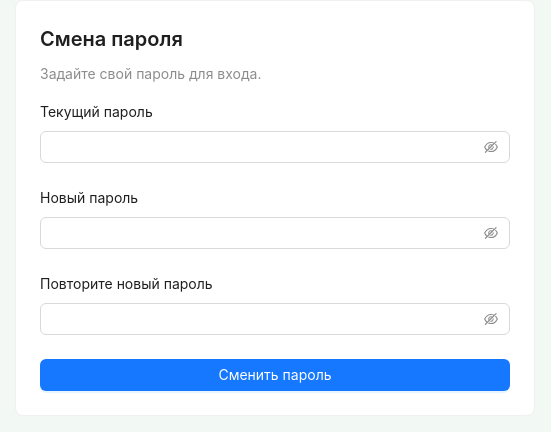
Test: ChangePassword — смена пароля › пустая отправка показывает ошибки обязательных полей и не делает запрос
The width and height of the screenshot is (551, 432).
Click the button "Сменить пароль". click: click(275, 375)
box: [40,359,510,391]
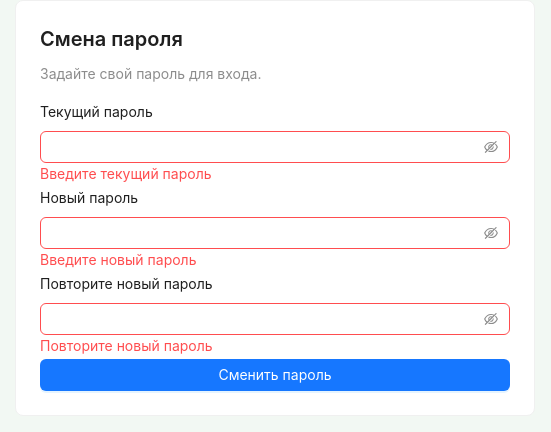
Expected: the text "Введите текущий пароль" is shown, [40,165,212,182]
Expected: the text "Введите новый пароль" is shown, [40,251,196,268]
Expected: the text "Повторите новый пароль" is shown, [40,337,213,354]
